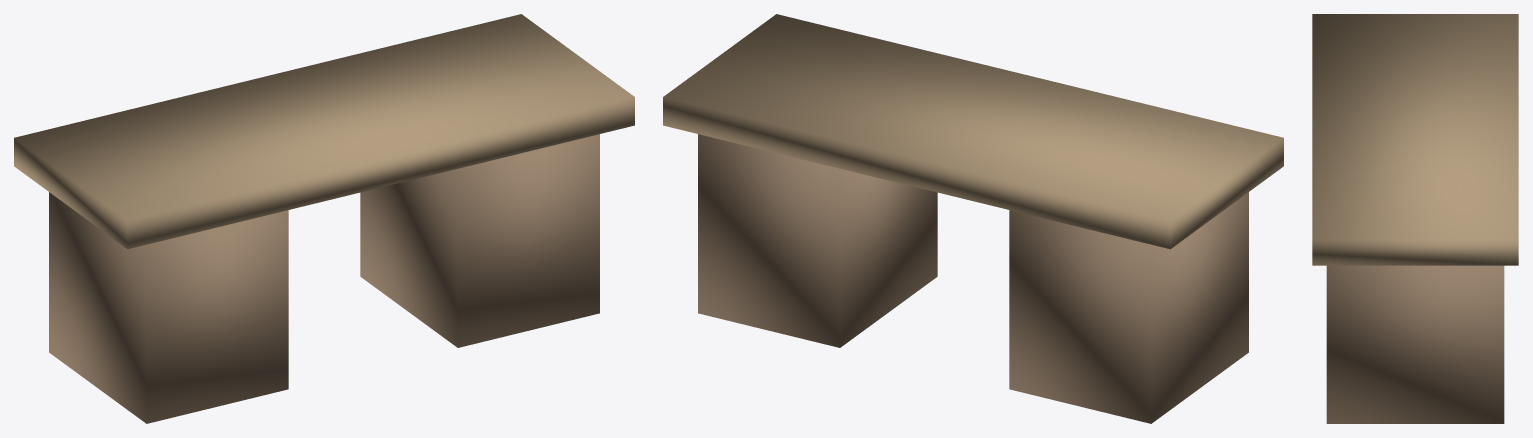
The model's file is teacher_desk__wide.glb.
The picture shows the model from 3 angles, left to right: view 1: azimuth 30°, elevation 25°; view 2: azimuth 150°, elevation 25°; view 3: azimuth 270°, elevation 25°; orthographic projection. The views are drawn at different scales.
Parts seen in each view (by area): view 1: world; view 2: world; view 3: world.
Part boxes in pixels (<box>): world: <box>14,14,634,423</box>; world: <box>663,14,1283,423</box>; world: <box>1312,14,1518,423</box>.
Size of the model in its own units: 1.86 by 0.755 by 0.72.
